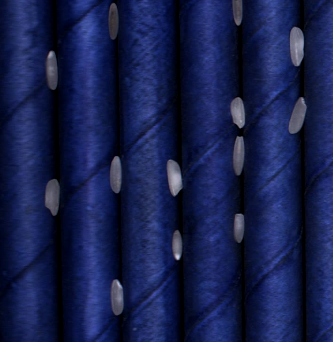broken_grain: (230, 1, 245, 27)
complete_grain: (286, 96, 309, 140), (227, 94, 250, 132), (43, 175, 61, 221), (288, 24, 306, 69), (44, 46, 60, 93), (107, 153, 123, 197), (109, 277, 125, 318), (232, 134, 246, 178), (231, 210, 247, 247)
milky_grain: (164, 159, 184, 198), (171, 228, 183, 262)
yellow_grain: (108, 1, 120, 43)
